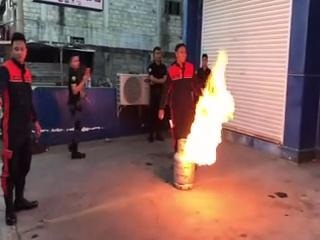Fire: (183, 50, 233, 169)
